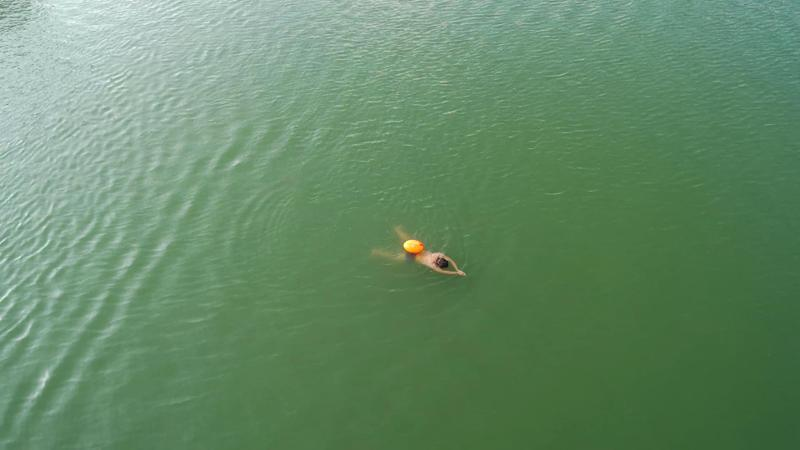swimmers: (371, 224, 465, 278)
